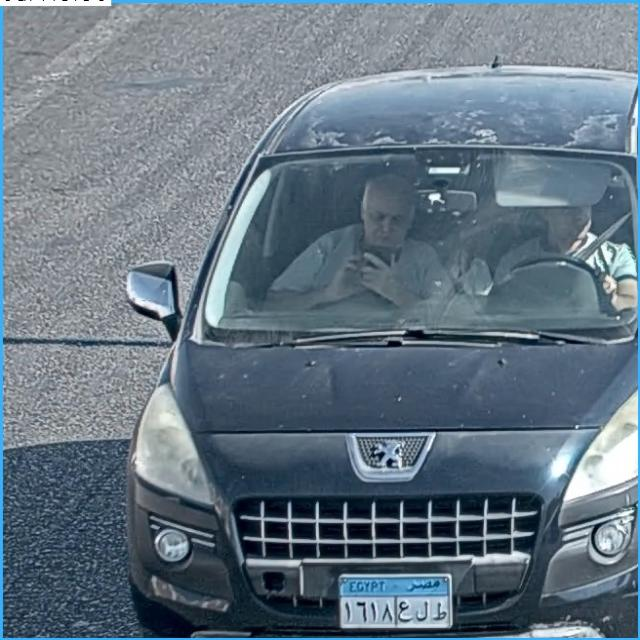windshield: (196, 151, 640, 338)
